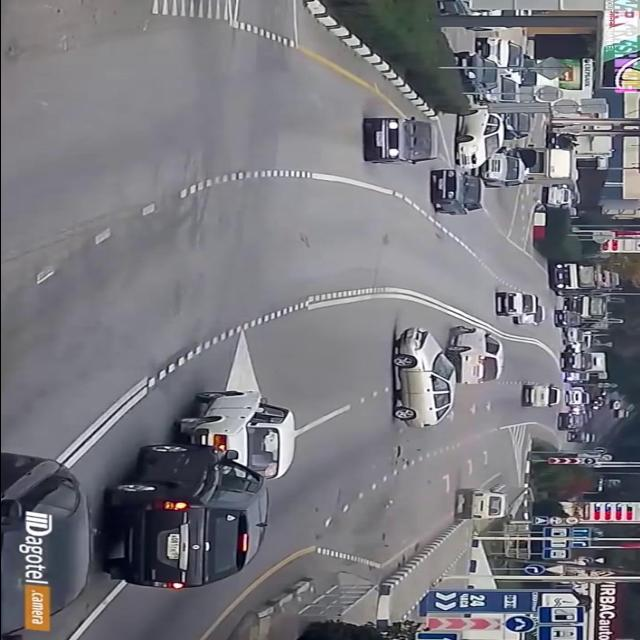accident: (383, 323, 505, 477)
non_accident: (92, 386, 301, 591), (353, 34, 583, 220), (487, 287, 549, 329)
